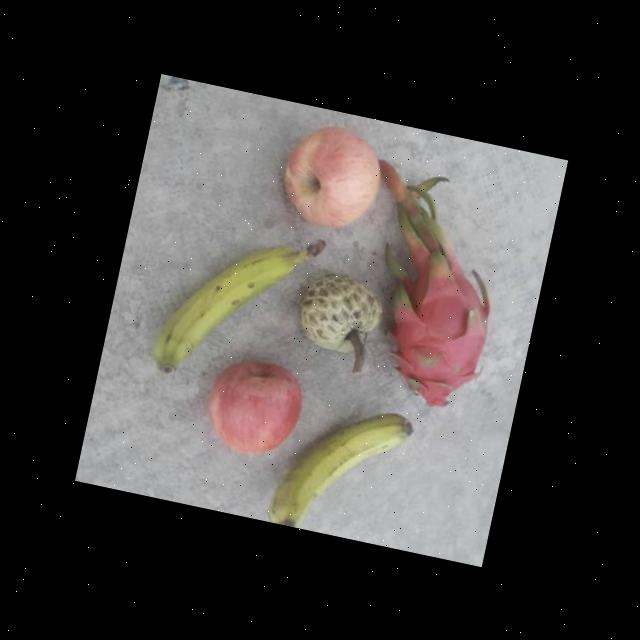Sakya fruit: (288, 266, 390, 372)
apple: (269, 113, 389, 242), (197, 350, 309, 468)
banana: (145, 208, 327, 404), (266, 392, 414, 546)
pitaya: (363, 242, 502, 415)
